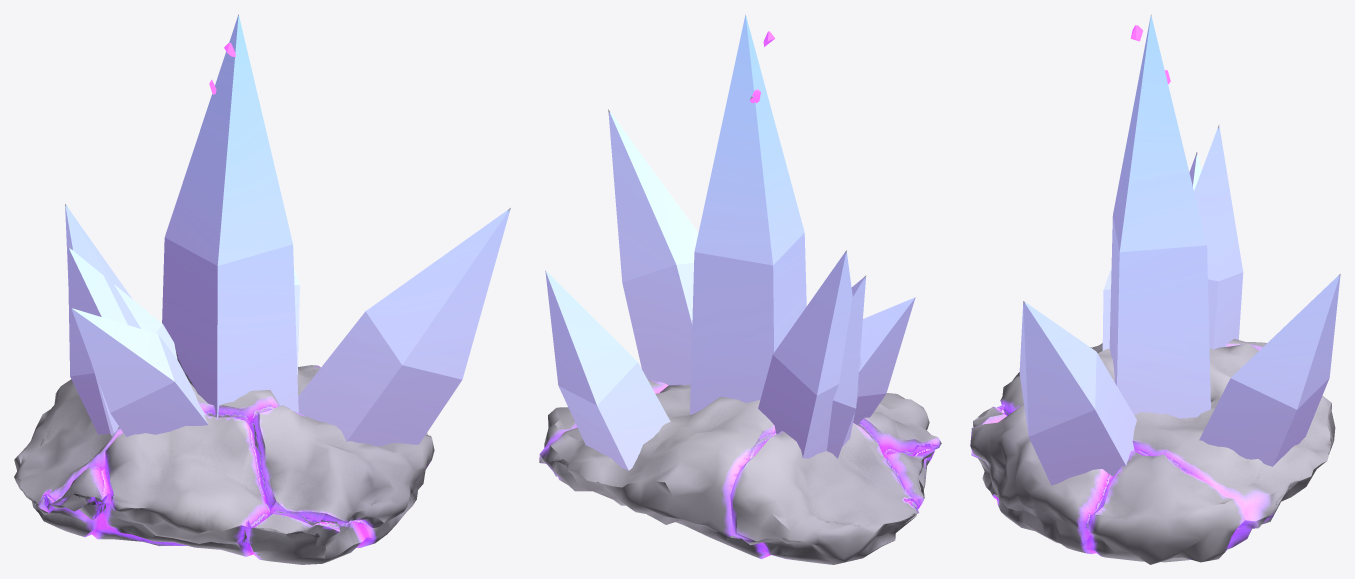
File: mineral_antimaterial.fbx
The picture shows the model from 3 angles, left to right: view 1: azimuth 30°, elevation 25°; view 2: azimuth 150°, elevation 25°; view 3: azimuth 270°, elevation 25°; orthographic projection. The views are drawn at different scales.
Parts seen in each view (by area): view 1: mineral_antimaterial_cristal, mineral_antimaterial; view 2: mineral_antimaterial_cristal, mineral_antimaterial; view 3: mineral_antimaterial_cristal, mineral_antimaterial.
Boxes of the visible parts, x1,y1,x2,y2 form: mineral_antimaterial_cristal: (65, 14, 510, 446); mineral_antimaterial: (14, 365, 434, 564); mineral_antimaterial_cristal: (545, 14, 915, 470); mineral_antimaterial: (539, 379, 941, 564); mineral_antimaterial_cristal: (1019, 14, 1340, 485); mineral_antimaterial: (970, 339, 1335, 564).
Size of the model in its own units: 3.33 by 4.01 by 2.8.
3 materials, 3 textured.
